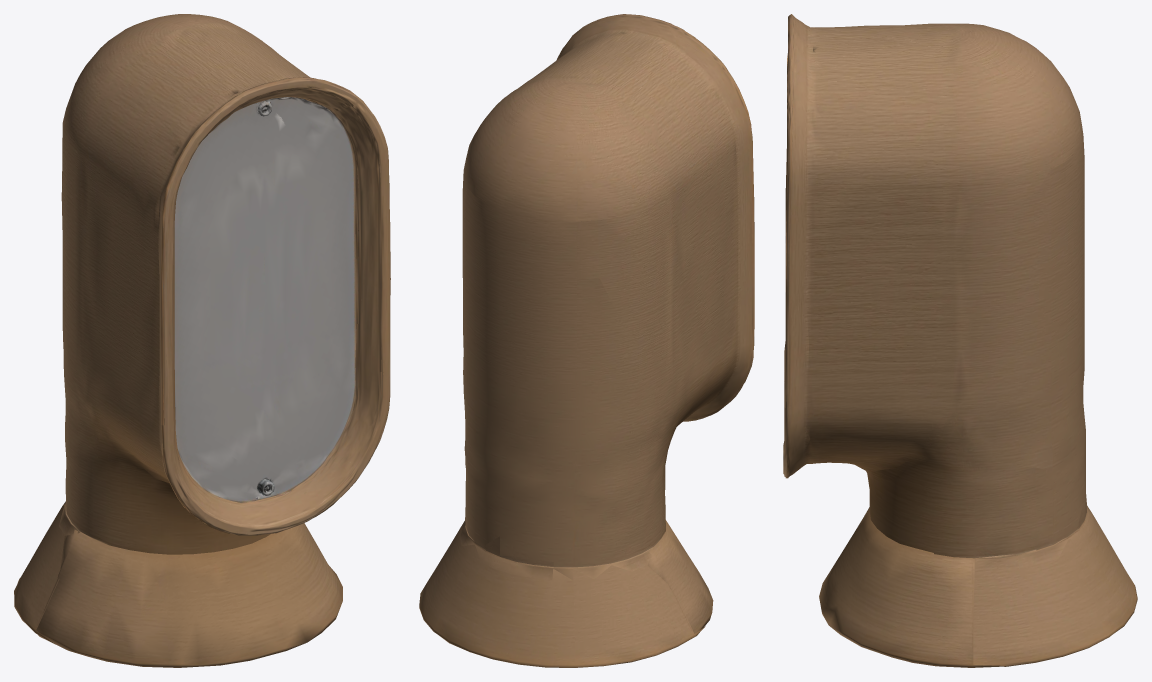
File: lamp_02.glb
The picture shows the model from 3 angles, left to right: view 1: azimuth 30°, elevation 25°; view 2: azimuth 150°, elevation 25°; view 3: azimuth 270°, elevation 25°; orthographic projection. The views are drawn at different scales.
Visible parts, largest first — view 1: tripo_part_13, tripo_part_4, tripo_part_8; view 2: tripo_part_13, tripo_part_8, tripo_part_9; view 3: tripo_part_13, tripo_part_8, tripo_part_9.
Boxes of the visible parts, x1,y1,x2,y2 form: tripo_part_13: (61,14,390,554); tripo_part_4: (174,97,358,502); tripo_part_8: (14,506,342,667); tripo_part_13: (462,14,754,567); tripo_part_8: (419,520,713,667); tripo_part_9: (459,520,654,580); tripo_part_13: (783,14,1086,558); tripo_part_8: (819,507,1137,667); tripo_part_9: (976,505,1094,568).
Size of the model in its own units: 0.5127 by 1 by 0.5616.
Materials: 9 (9 with a texture image).
